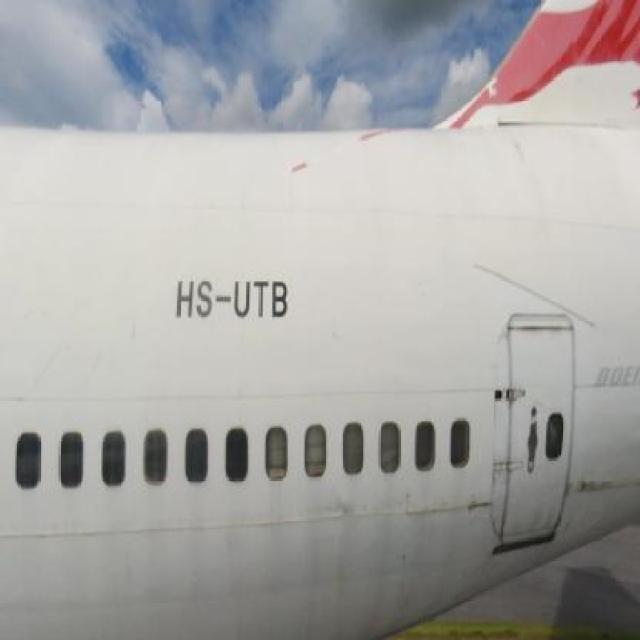Rust: (453, 484, 502, 536), (572, 468, 618, 514)
Scartch: (12, 268, 168, 410), (319, 471, 378, 606)
